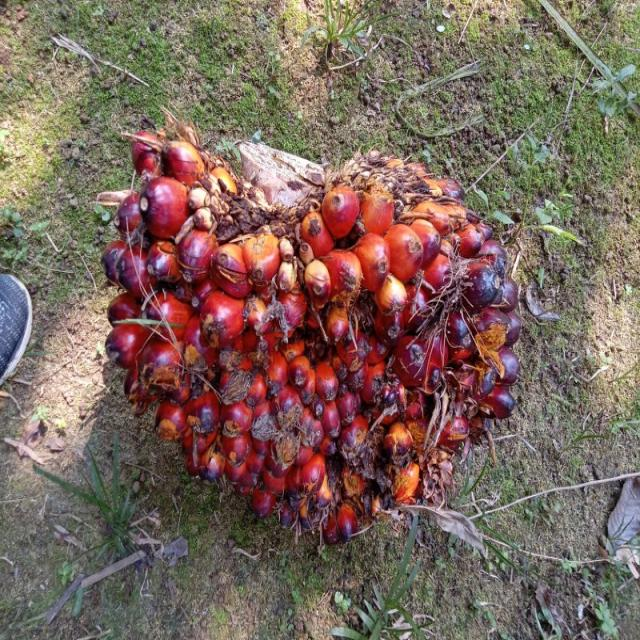fraksi 3: (73, 108, 579, 565)
